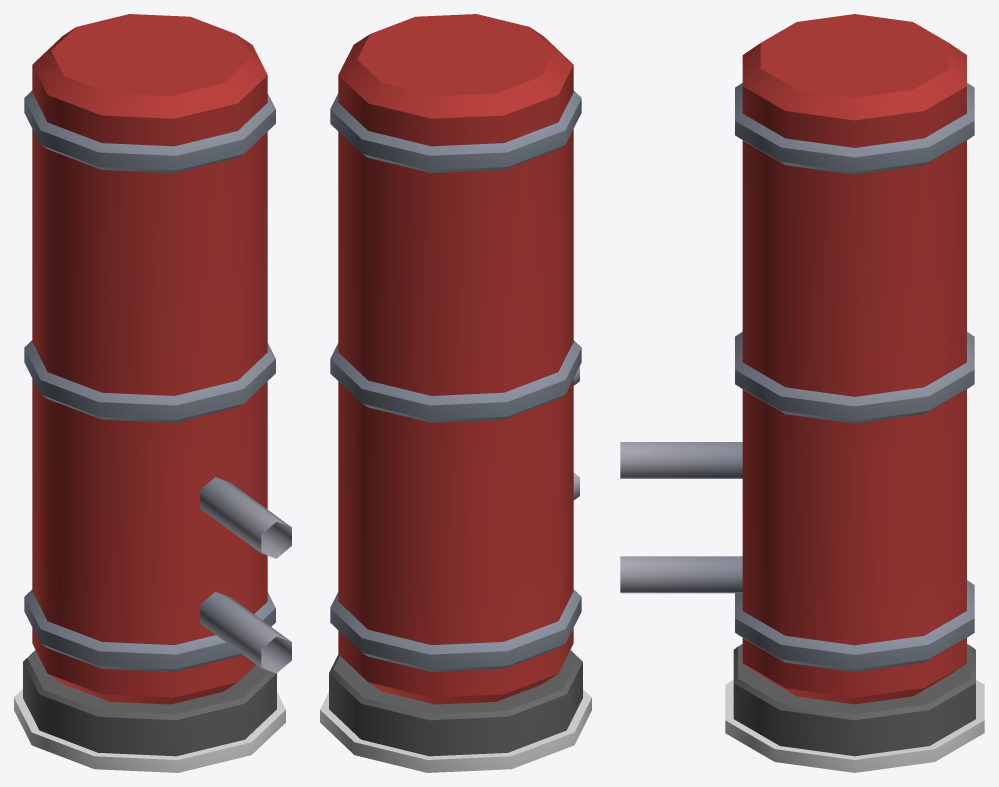
File: GasTank_1_B.fbx
3 views of the same model, side by side, from view 1: azimuth 30°, elevation 25°; view 2: azimuth 150°, elevation 25°; view 3: azimuth 270°, elevation 25° (orthographic).
Parts seen in each view (by area): view 1: GasTank_1_B; view 2: GasTank_1_B; view 3: GasTank_1_B.
Boxes of the visible parts, left/top/right/bottom form: GasTank_1_B: left=14, top=14, right=291, bottom=772; GasTank_1_B: left=320, top=14, right=591, bottom=772; GasTank_1_B: left=620, top=14, right=984, bottom=772.
Bounding box in the file's own units: 284 × 758 × 379.
